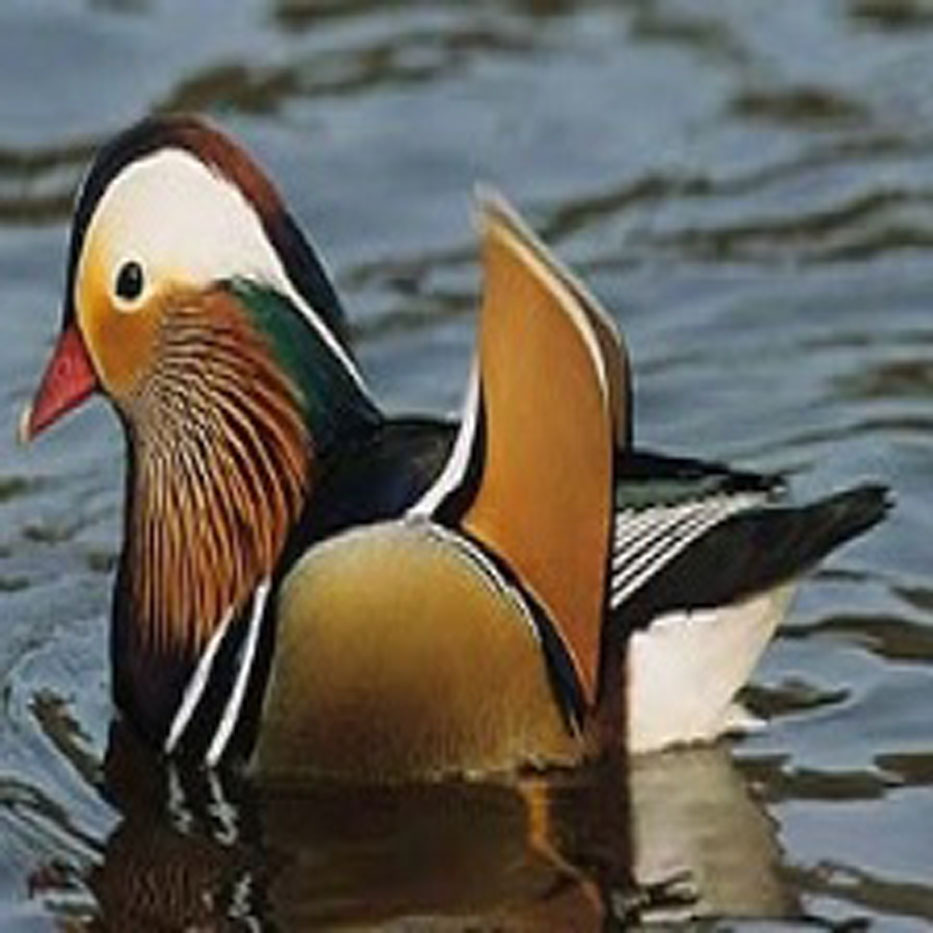Mencari Makan di Lumpur: (16, 331, 103, 438)
